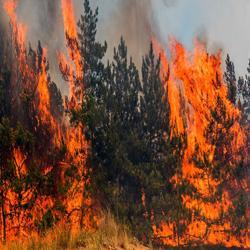fire: (169, 54, 224, 146), (183, 168, 224, 241), (64, 136, 90, 225), (36, 70, 54, 119)
